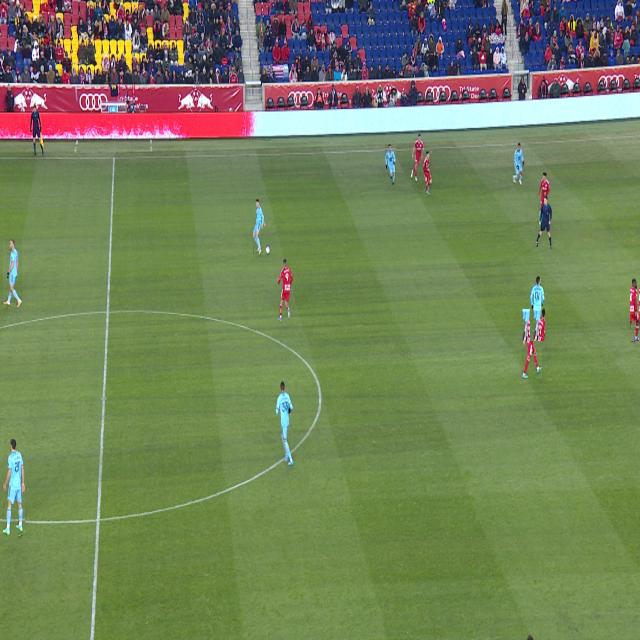football: (266, 246, 270, 254)
player: (3, 440, 25, 535), (276, 381, 294, 465), (522, 310, 542, 379), (3, 239, 22, 307), (530, 277, 545, 341), (278, 258, 293, 321), (253, 199, 266, 255), (410, 133, 424, 182), (630, 279, 640, 341), (538, 172, 550, 217), (513, 143, 524, 185), (385, 145, 396, 186), (423, 152, 432, 195)
referee: (536, 196, 552, 249)
